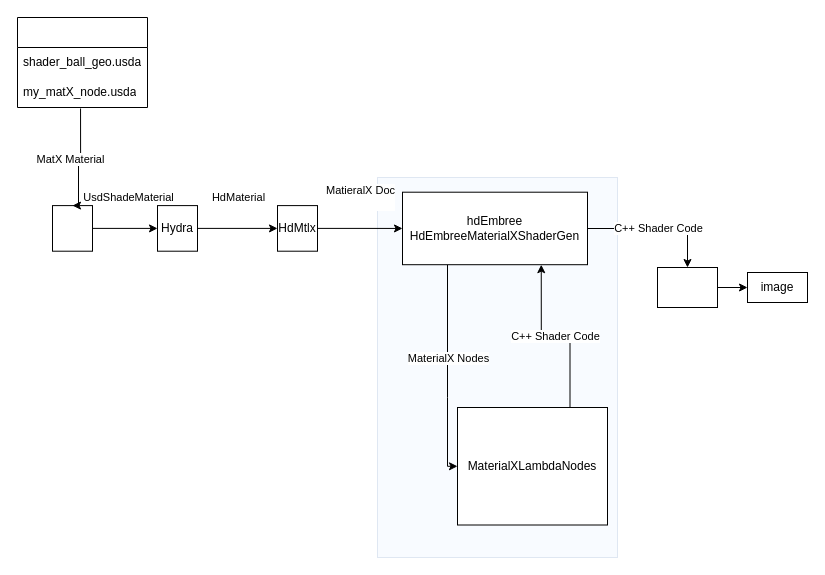
This 825x575 diagram has some shape labels left out. Here are the shapes that lost their labels. From the top down, the box of each, then its label:
(16, 16, 148, 108): test.usda
(52, 205, 92, 251): Usd
(656, 266, 718, 308): Embree
